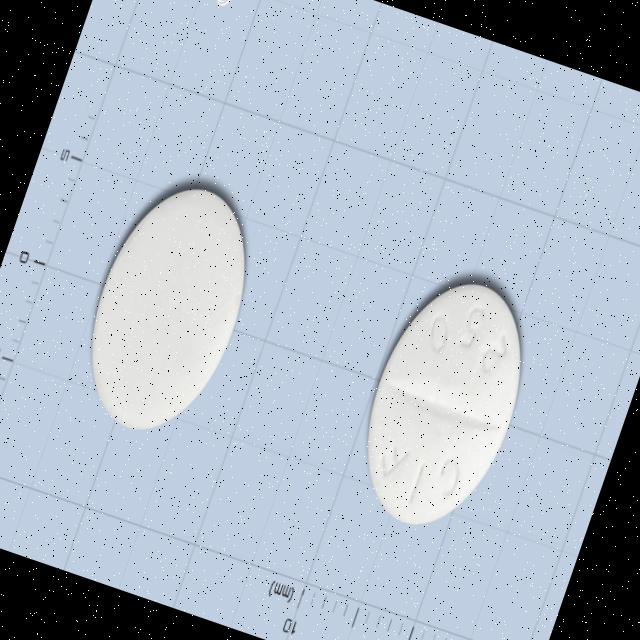Sinil Ciprofloxacin HCl Tab: (336, 262, 551, 548), (59, 168, 274, 453)
